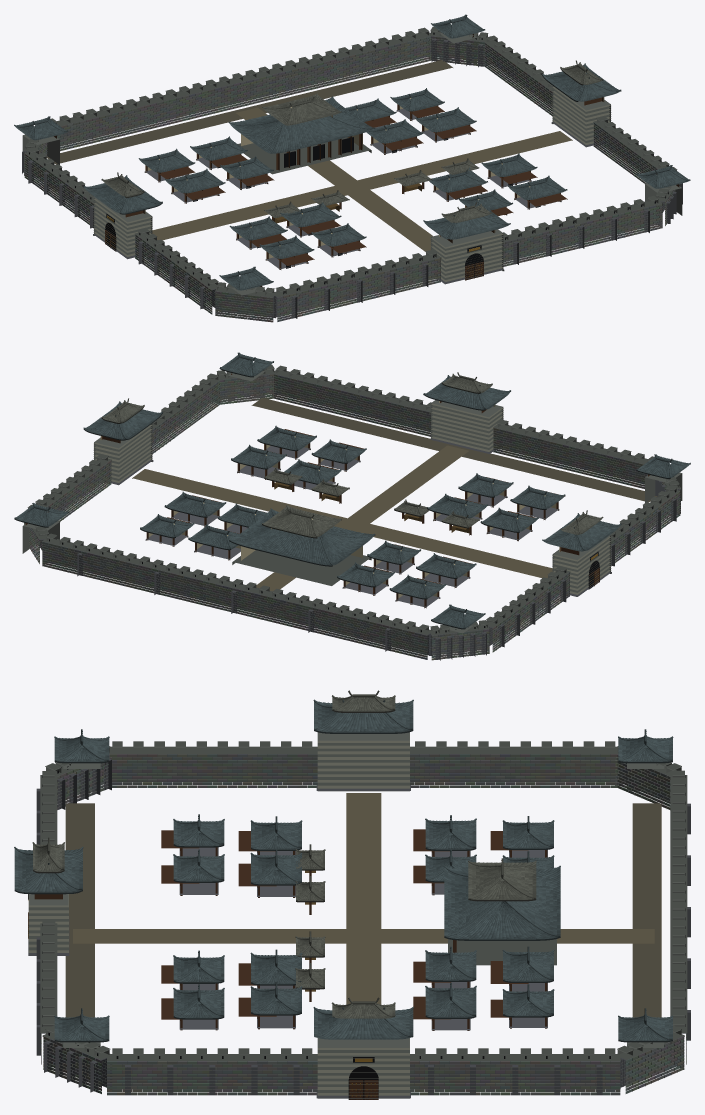
The model's file is TRB7-CITY-EAST-001-v8.glb.
3 views of the same model, one above another, from view 1: azimuth 30°, elevation 25°; view 2: azimuth 150°, elevation 25°; view 3: azimuth 270°, elevation 25° (orthographic). The views are drawn at different scales.
Visible parts, largest first — view 1: TRB7-CITY-EAST-001-v8; view 2: TRB7-CITY-EAST-001-v8; view 3: TRB7-CITY-EAST-001-v8.
Part boxes in pixels (x1,y1,x2,y2): TRB7-CITY-EAST-001-v8: (14, 14, 690, 322); TRB7-CITY-EAST-001-v8: (14, 352, 690, 660); TRB7-CITY-EAST-001-v8: (14, 690, 690, 1099).
Bounding box in the file's own units: 32.87 × 4.34 × 27.94.
